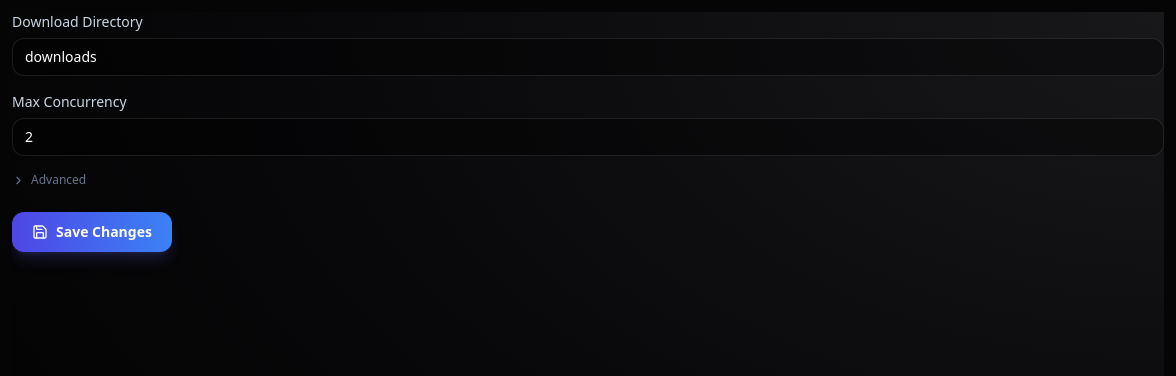
Test: Settings › shows "Saved" feedback after successful save
Click the button "Save Changes": (92, 232) [12,212,172,252]
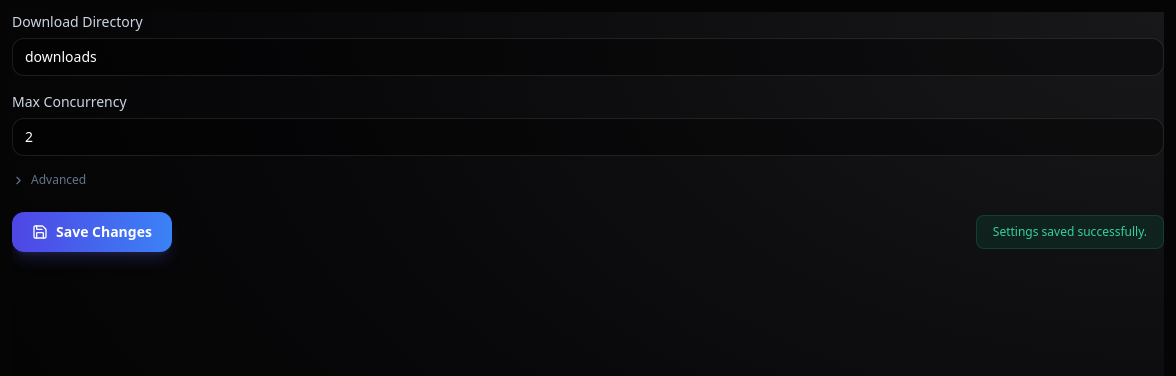
Check: the text "Settings saved successfully." is shown, box [976,215,1164,249]
